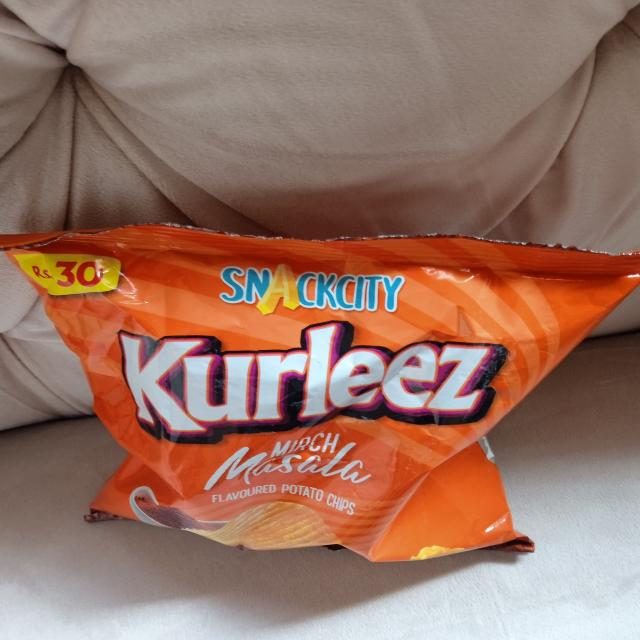Plastic: (0, 220, 640, 574)
